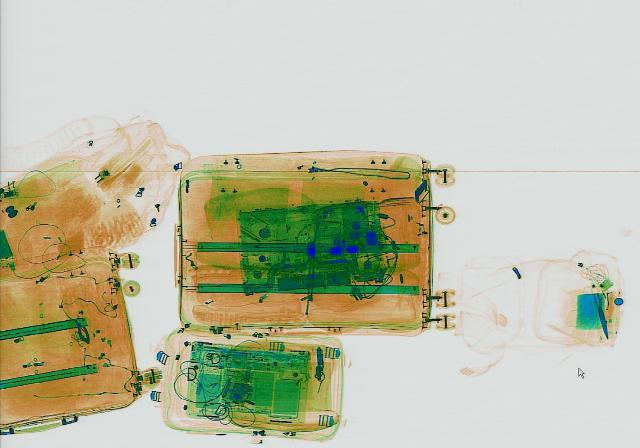Knife: (588, 290, 614, 337)
